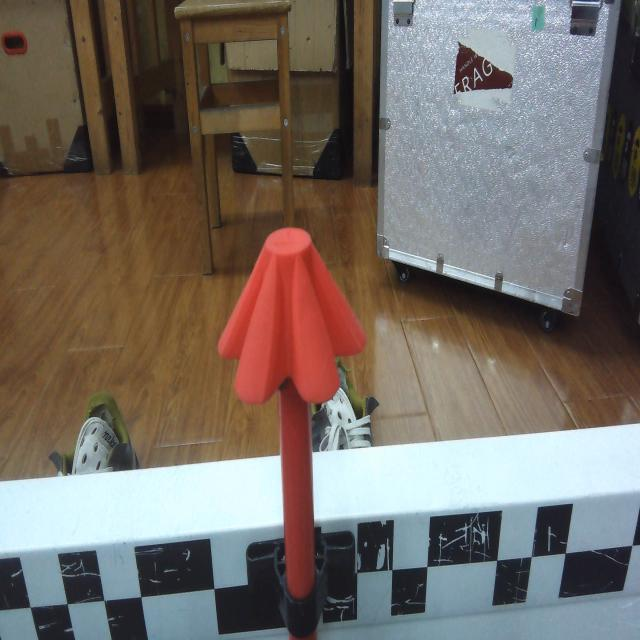zred-Stake-Head: (218, 227, 366, 404)
